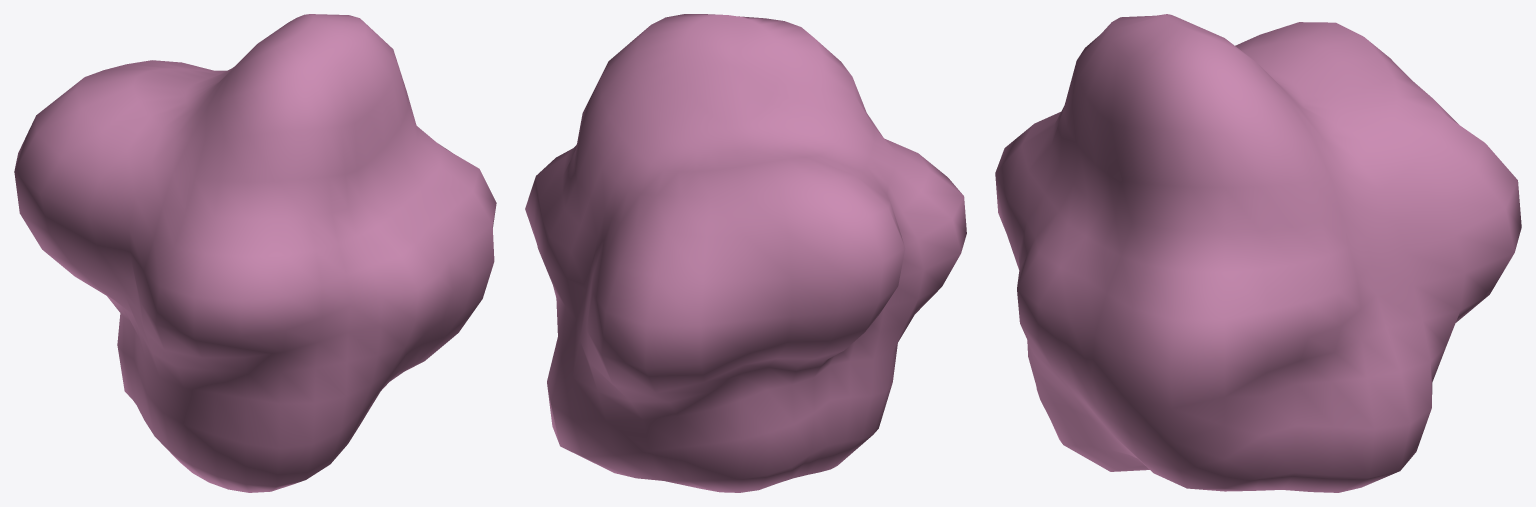
The picture shows the model from 3 angles, left to right: view 1: azimuth 30°, elevation 25°; view 2: azimuth 150°, elevation 25°; view 3: azimuth 270°, elevation 25°; orthographic projection. The views are drawn at different scales.
Visible parts, largest first — view 1: Sphere_3; view 2: Sphere_3; view 3: Sphere_3.
Boxes of the visible parts, <box> form: Sphere_3: <box>14,14,496,492</box>; Sphere_3: <box>525,14,966,492</box>; Sphere_3: <box>995,14,1521,492</box>.
Bounding box in the file's own units: 1 × 1 × 1.
